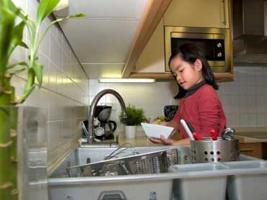person: (147, 45, 228, 147)
